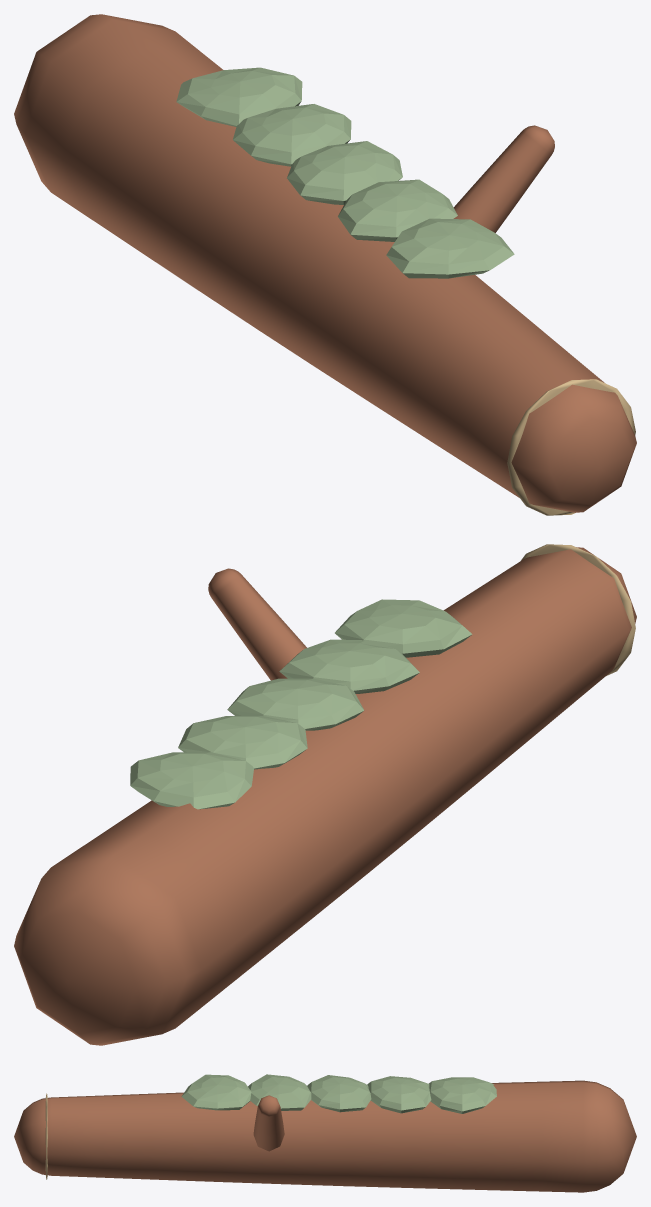
Rendered from primeval-frontier-fallen-conifer-log-8106930b__1755.glb.
3 views of the same model, one above another, from view 1: azimuth 30°, elevation 25°; view 2: azimuth 150°, elevation 25°; view 3: azimuth 270°, elevation 25° (orthographic). The views are drawn at different scales.
Visible parts, largest first — view 1: fallen-conifer-log; view 2: fallen-conifer-log; view 3: fallen-conifer-log.
Boxes of the visible parts, <box> form: fallen-conifer-log: <box>14,14,636,515</box>; fallen-conifer-log: <box>14,544,636,1045</box>; fallen-conifer-log: <box>14,1074,636,1192</box>.
Bounding box in the file's own units: 1.09 × 0.9463 × 3.87.
